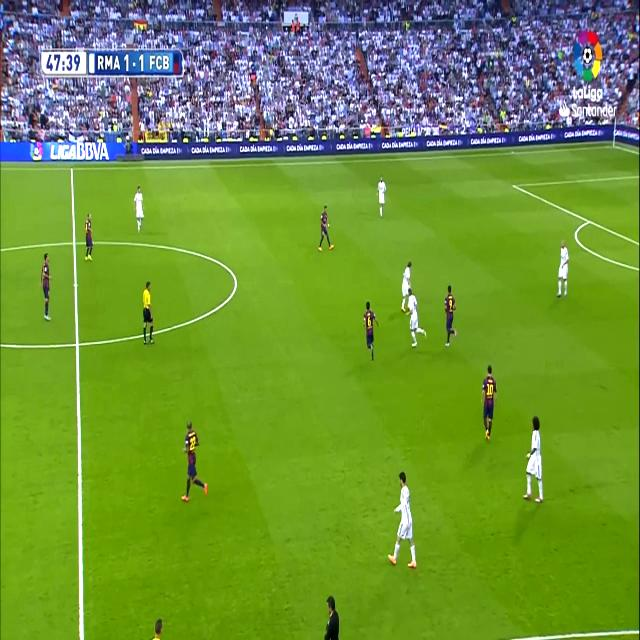corner: (609, 139, 618, 150)
halfcircle_bottom: (71, 329, 83, 358)
halfcircle_top: (69, 232, 79, 252)
midline_top_intersection: (69, 163, 75, 174)
top_arc_area_intersection: (584, 212, 593, 228)
